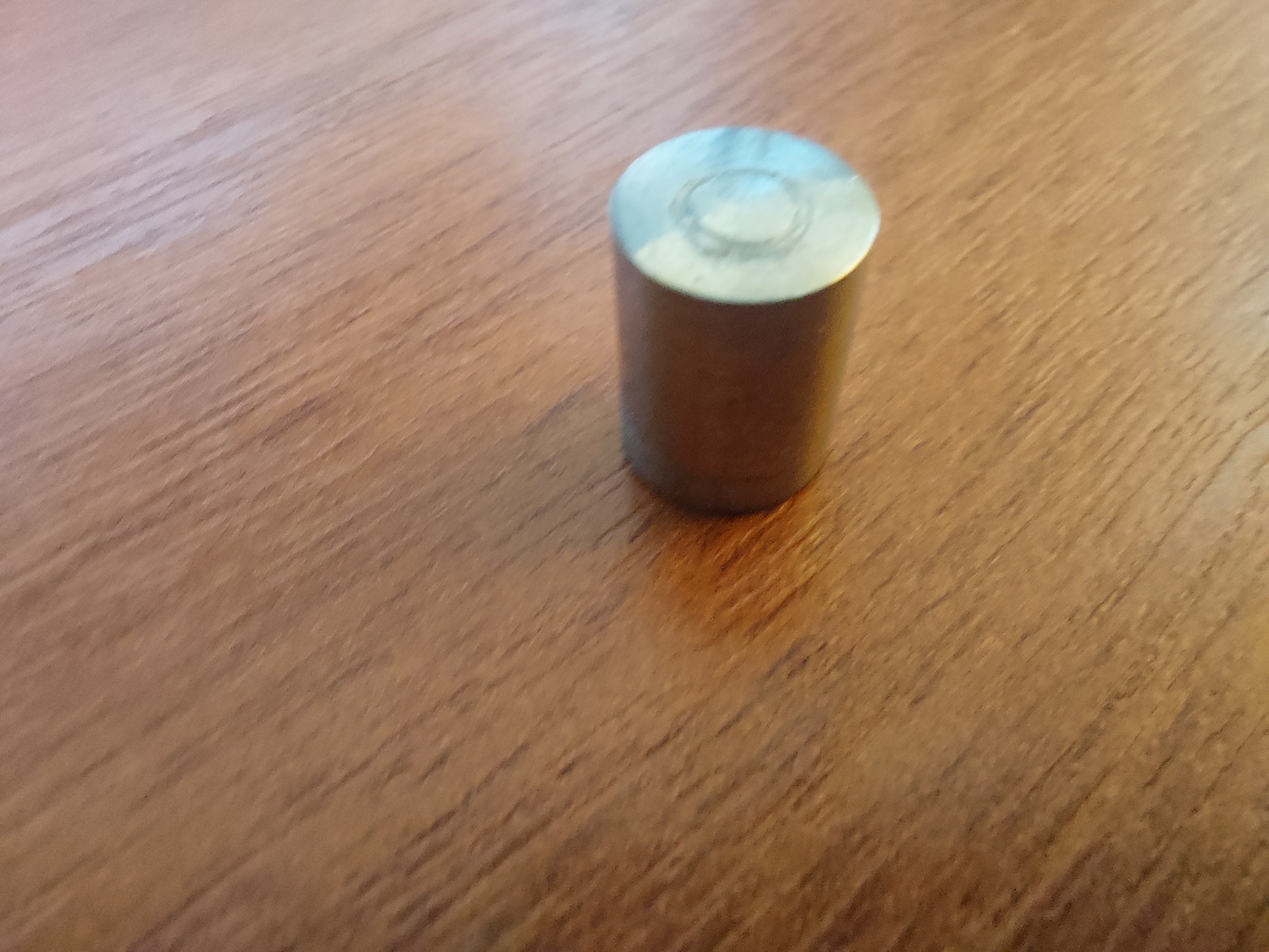tablet: (593, 117, 914, 560)
